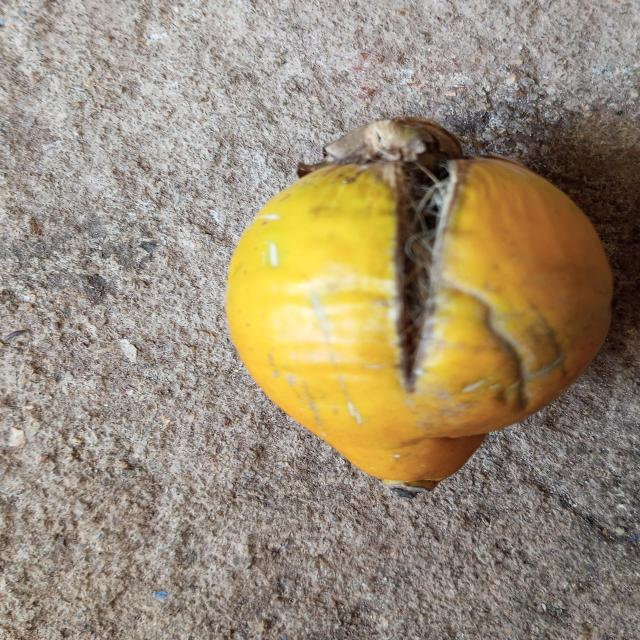damaged: (224, 118, 614, 491)
